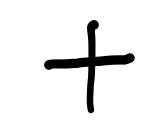plus: (42, 21, 133, 113)
